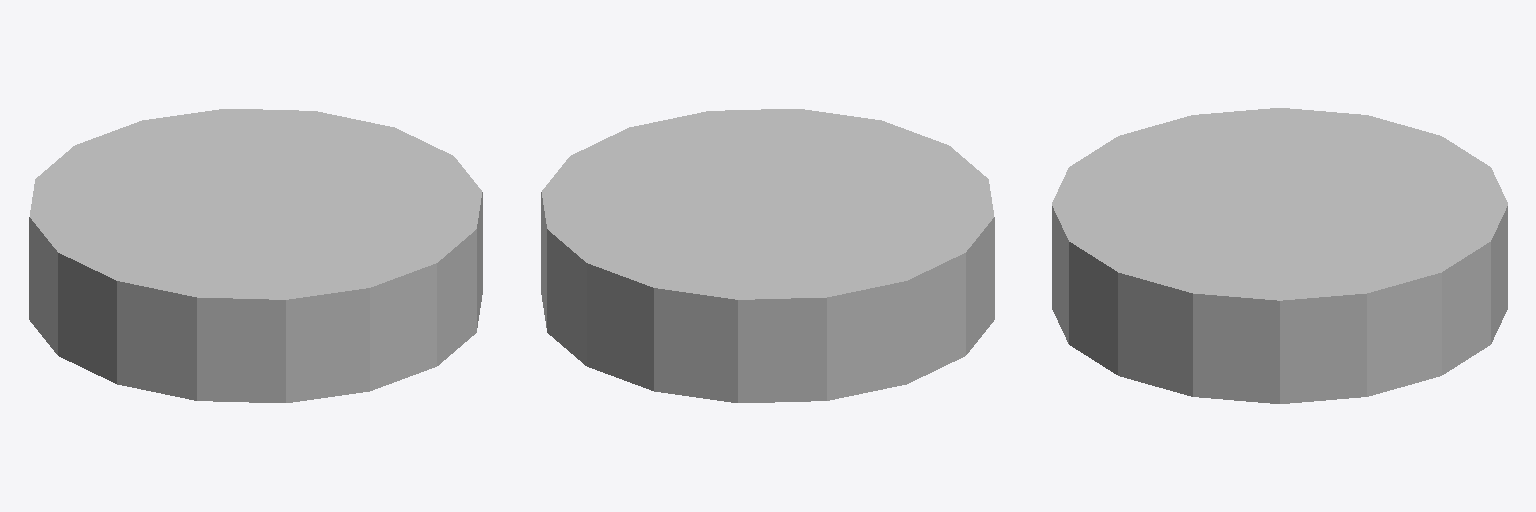
Rendered from FSR-SIII-Scope-3x-Tuner.obj.
3 renders of one model, left to right at view 1: azimuth 30°, elevation 25°; view 2: azimuth 150°, elevation 25°; view 3: azimuth 270°, elevation 25°, orthographic.
Parts seen in each view (by area): view 1: FSR-SIII-Scope-3x-Tuner; view 2: FSR-SIII-Scope-3x-Tuner; view 3: FSR-SIII-Scope-3x-Tuner.
Part boxes in pixels (x1,y1,x2,y2): FSR-SIII-Scope-3x-Tuner: (29, 109, 482, 402); FSR-SIII-Scope-3x-Tuner: (541, 109, 994, 402); FSR-SIII-Scope-3x-Tuner: (1052, 108, 1507, 403).
Size of the model in its own units: 0.1 by 0.025 by 0.1.